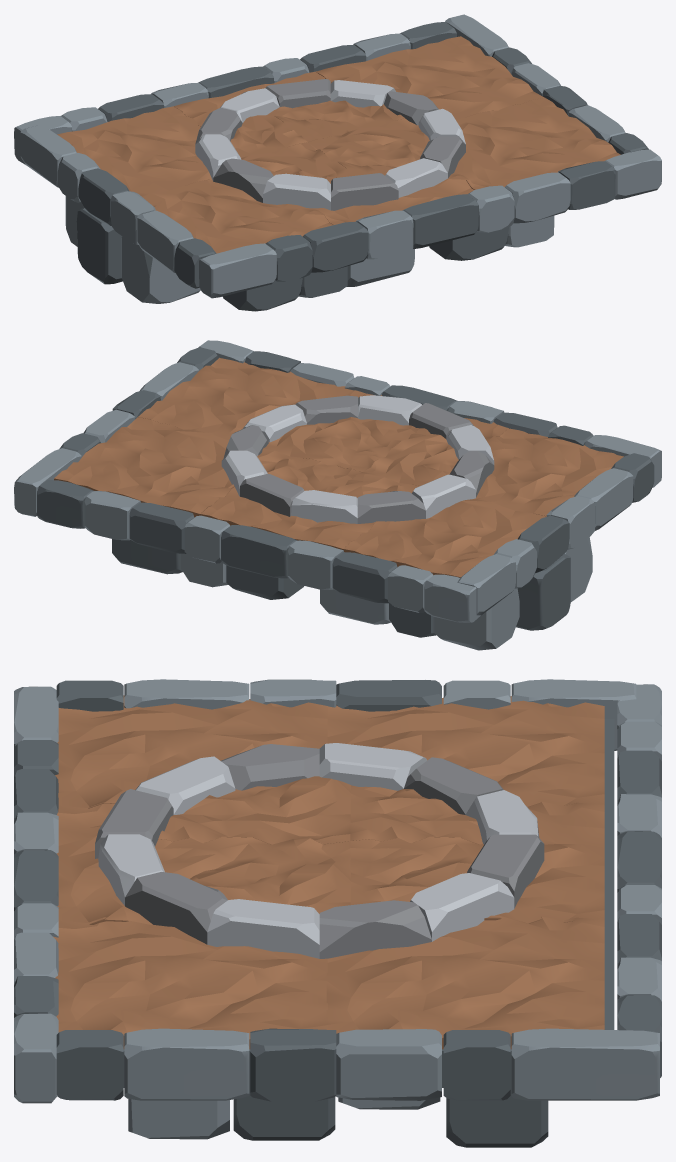
The model's file is PastPlat.fbx.
3 renders of one model, top to bottom at view 1: azimuth 30°, elevation 25°; view 2: azimuth 150°, elevation 25°; view 3: azimuth 270°, elevation 25°, orthographic. The views are drawn at different scales.
Parts seen in each view (by area): view 1: pasted__polySurface5279, pasted__polySurface6243, pasted__polySurface6224; view 2: pasted__polySurface5279, pasted__polySurface6243, pasted__polySurface6224; view 3: pasted__polySurface5279, pasted__polySurface6243, pasted__polySurface6224.
Boxes of the visible parts, x1,y1,x2,y2 form: pasted__polySurface5279: [14, 14, 661, 311]; pasted__polySurface6243: [57, 36, 620, 253]; pasted__polySurface6224: [195, 79, 465, 210]; pasted__polySurface5279: [14, 340, 661, 650]; pasted__polySurface6243: [54, 357, 623, 577]; pasted__polySurface6224: [221, 395, 494, 523]; pasted__polySurface5279: [14, 679, 661, 1147]; pasted__polySurface6243: [53, 695, 604, 1049]; pasted__polySurface6224: [95, 743, 544, 958].
Size of the model in its own units: 1104 by 239 by 816.
